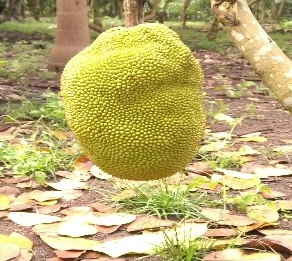Mit: (60, 24, 204, 182)
